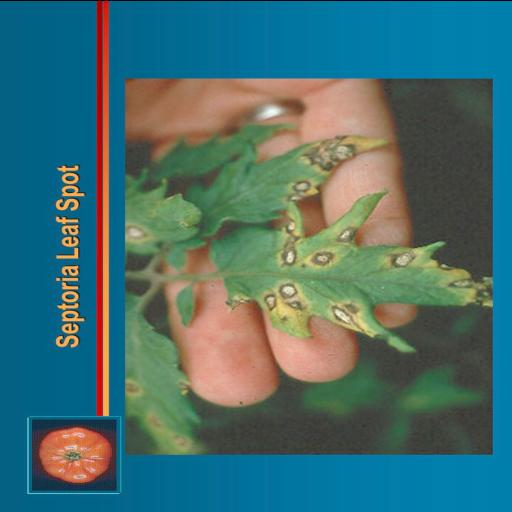disease_tomato: (218, 202, 492, 355), (182, 128, 390, 236), (128, 292, 212, 450), (122, 165, 200, 257)
